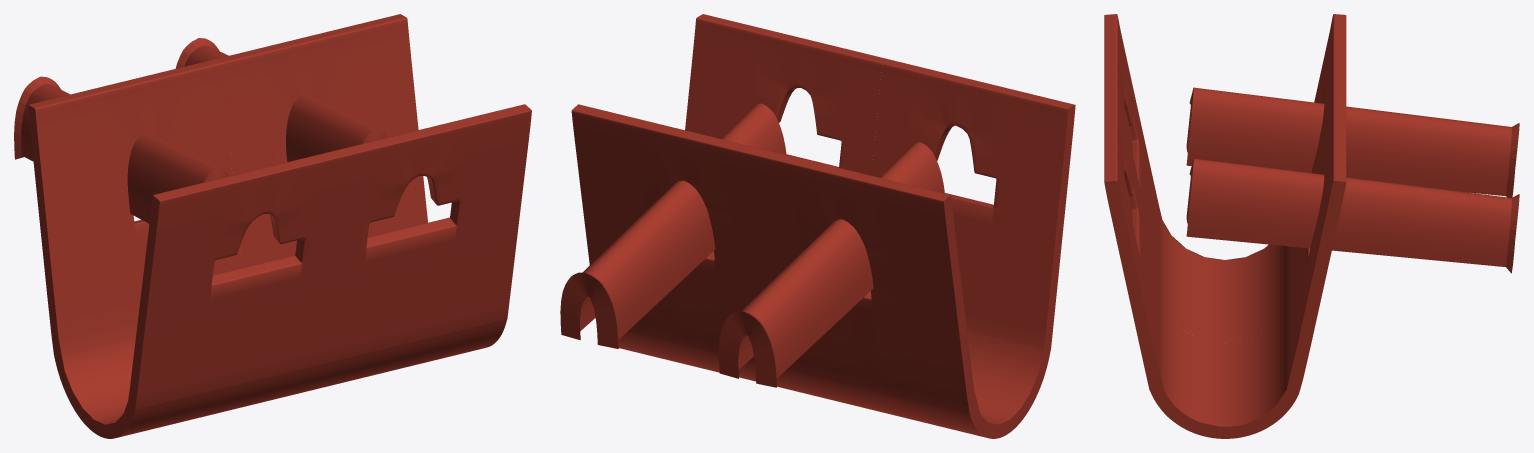
File: joint_coupler.glb
3 renders of one model, left to right at view 1: azimuth 30°, elevation 25°; view 2: azimuth 150°, elevation 25°; view 3: azimuth 270°, elevation 25°, orthographic. The views are drawn at different scales.
Visible parts, largest first — view 1: Tube002, objct002, objct1; view 2: Tube002, objct1, objct002; view 3: Tube002, objct1, objct002.
Boxes of the visible parts, <box> form: Tube002: <box>28,14,531,438</box>; objct002: <box>14,76,229,223</box>; objct1: <box>175,38,400,200</box>; Tube002: <box>571,14,1075,438</box>; objct1: <box>560,103,786,348</box>; objct002: <box>719,142,944,387</box>; Tube002: <box>1104,14,1346,438</box>; objct1: <box>1186,158,1519,273</box>; objct002: <box>1186,87,1519,197</box>.
Bounding box in the file's own units: 0.1481 × 0.1068 × 0.1557.
1 material, 1 textured.
